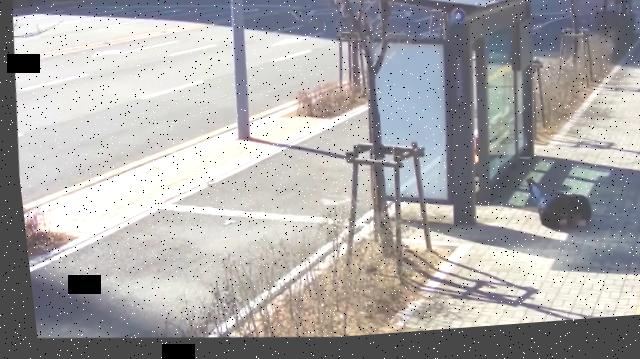fall: (514, 177, 594, 245)
